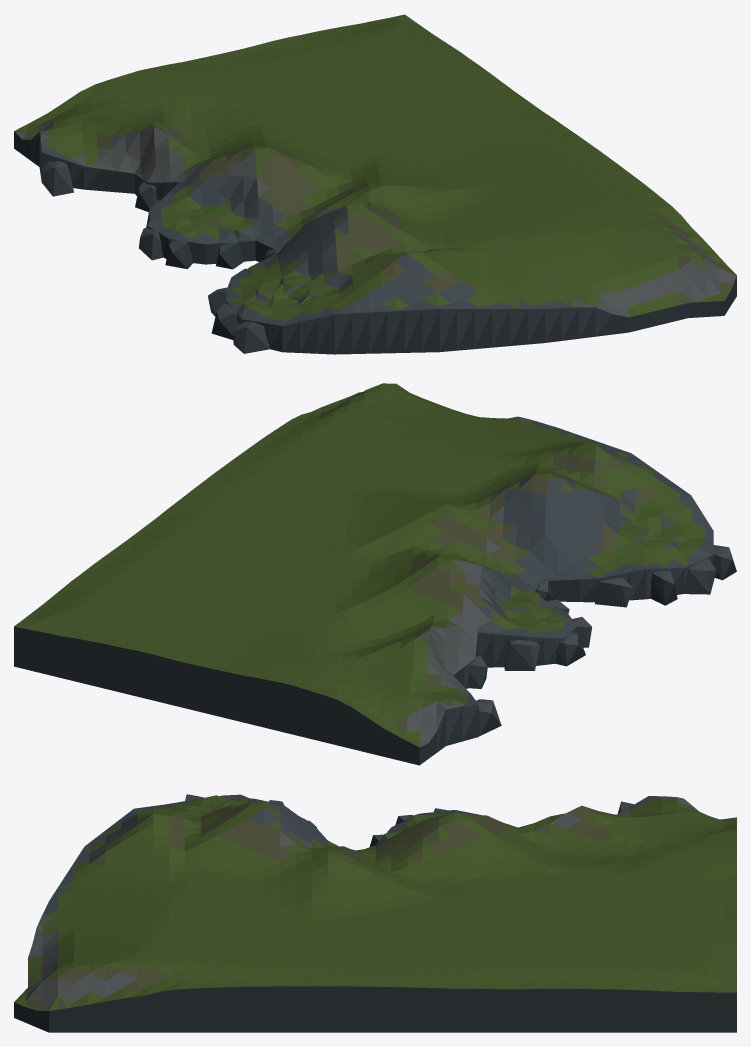
Rendered from mainland_headland.glb.
The picture shows the model from 3 angles, top to bottom: view 1: azimuth 30°, elevation 25°; view 2: azimuth 150°, elevation 25°; view 3: azimuth 270°, elevation 25°; orthographic projection. The views are drawn at different scales.
Parts seen in each view (by area): view 1: mainland_headland_Coast blue grey bedrock; view 2: mainland_headland_Coast blue grey bedrock; view 3: mainland_headland_Coast blue grey bedrock.
Boxes of the visible parts, bbox=[...] form: mainland_headland_Coast blue grey bedrock: bbox=[14, 14, 736, 354]; mainland_headland_Coast blue grey bedrock: bbox=[14, 383, 736, 765]; mainland_headland_Coast blue grey bedrock: bbox=[14, 794, 736, 1032].
Size of the model in its own units: 293 by 54.48 by 410.
